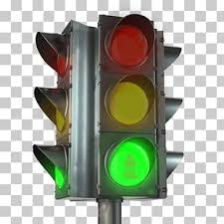semaforo: (95, 14, 161, 197)
